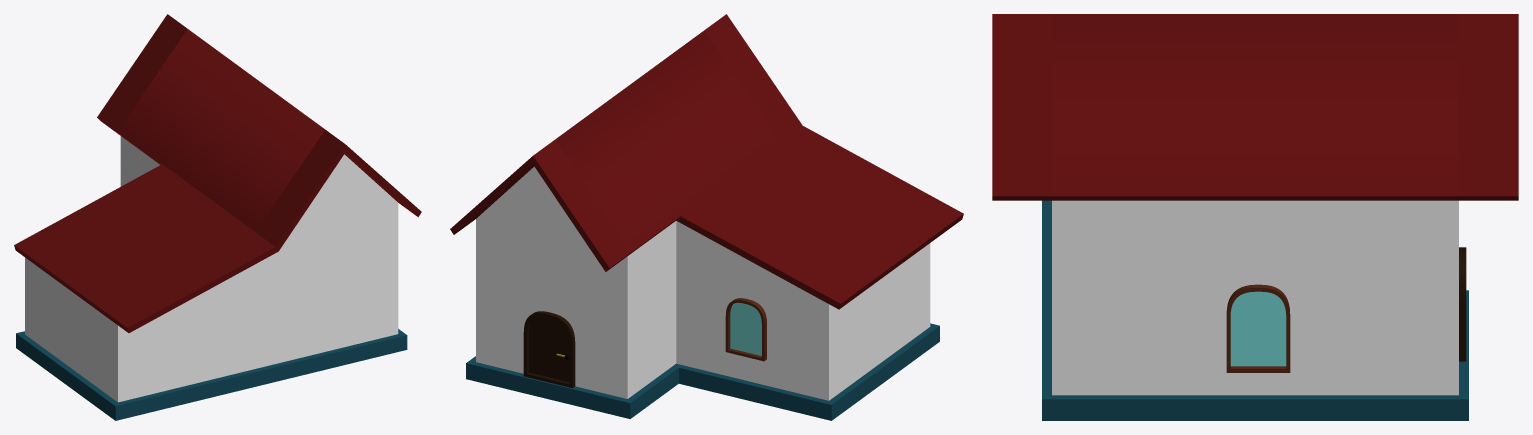
File: dom2.fbx
The picture shows the model from 3 angles, left to right: view 1: azimuth 30°, elevation 25°; view 2: azimuth 150°, elevation 25°; view 3: azimuth 270°, elevation 25°; orthographic projection. The views are drawn at different scales.
Parts seen in each view (by area): view 1: dom 4 006; view 2: dom 4 006, dom 4 002, dom 1; view 3: dom 4 006, dom 4 005, dom 4 002.
Boxes of the visible parts, x1=… form: dom 4 006: x1=14, y1=14, x2=421, y2=420; dom 4 006: x1=450, y1=14, x2=963, y2=420; dom 4 002: x1=523, y1=311, x2=575, y2=388; dom 1: x1=725, y1=298, x2=766, y2=361; dom 4 006: x1=992, y1=14, x2=1518, y2=420; dom 4 005: x1=1226, y1=284, x2=1290, y2=372; dom 4 002: x1=1459, y1=247, x2=1466, y2=361.
Bounding box in the file's own units: 133 × 102 × 139.
